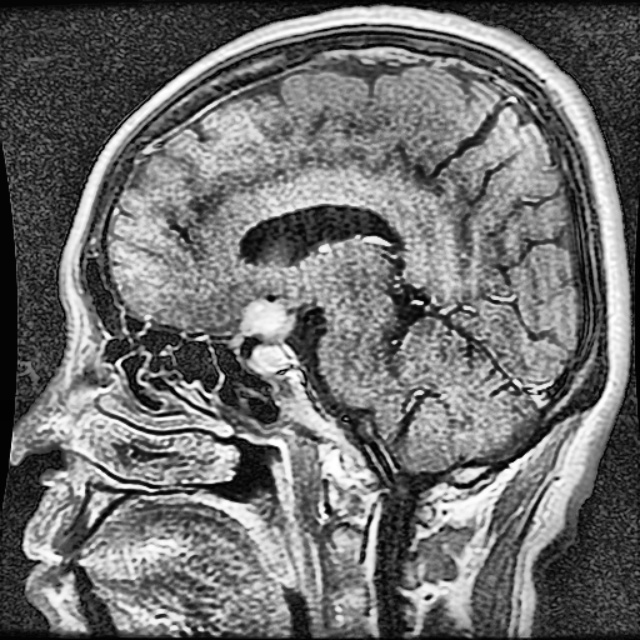Pituitary: (240, 298, 292, 372)
